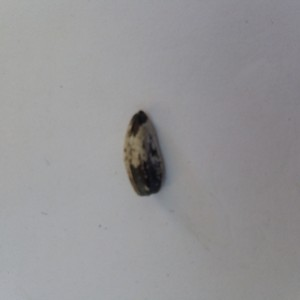girasol: (122, 108, 170, 199)
